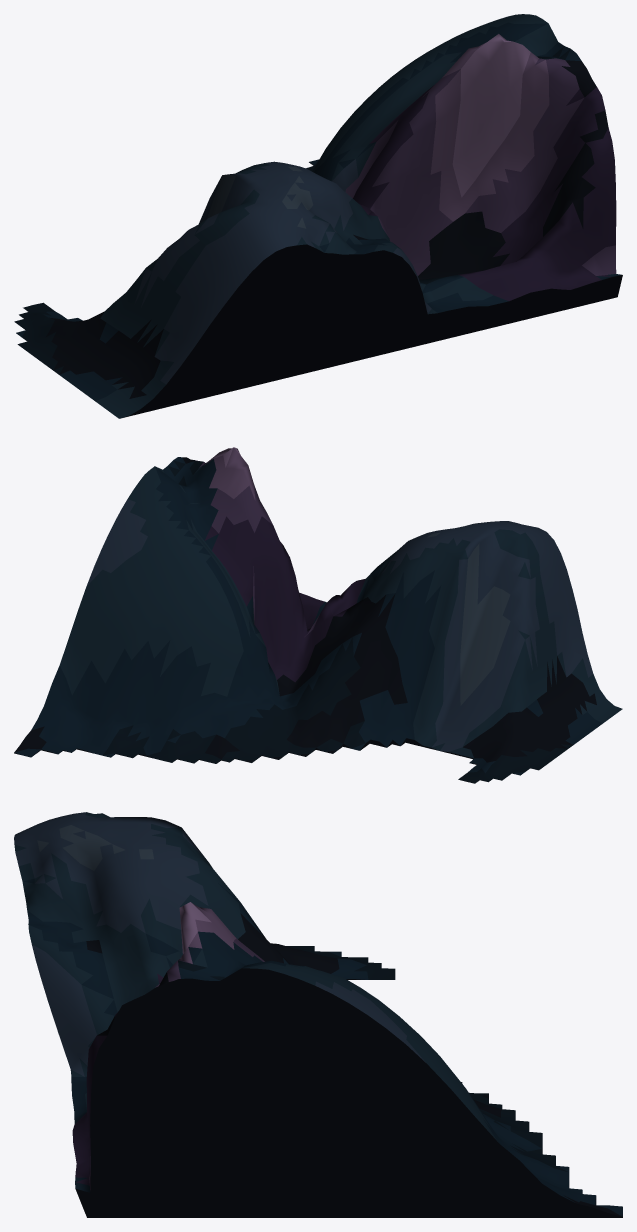
The model's file is gyges_maw_3.glb.
3 views of the same model, one above another, from view 1: azimuth 30°, elevation 25°; view 2: azimuth 150°, elevation 25°; view 3: azimuth 270°, elevation 25° (orthographic). The views are drawn at different scales.
Visible parts, largest first — view 1: gyges_maw_3; view 2: gyges_maw_3; view 3: gyges_maw_3.
Boxes of the visible parts, x1,y1,x2,y2 form: gyges_maw_3: (14, 14, 622, 418); gyges_maw_3: (14, 447, 622, 783); gyges_maw_3: (14, 812, 622, 1217).
Bounding box in the file's own units: 24 × 11.38 × 22.73.
